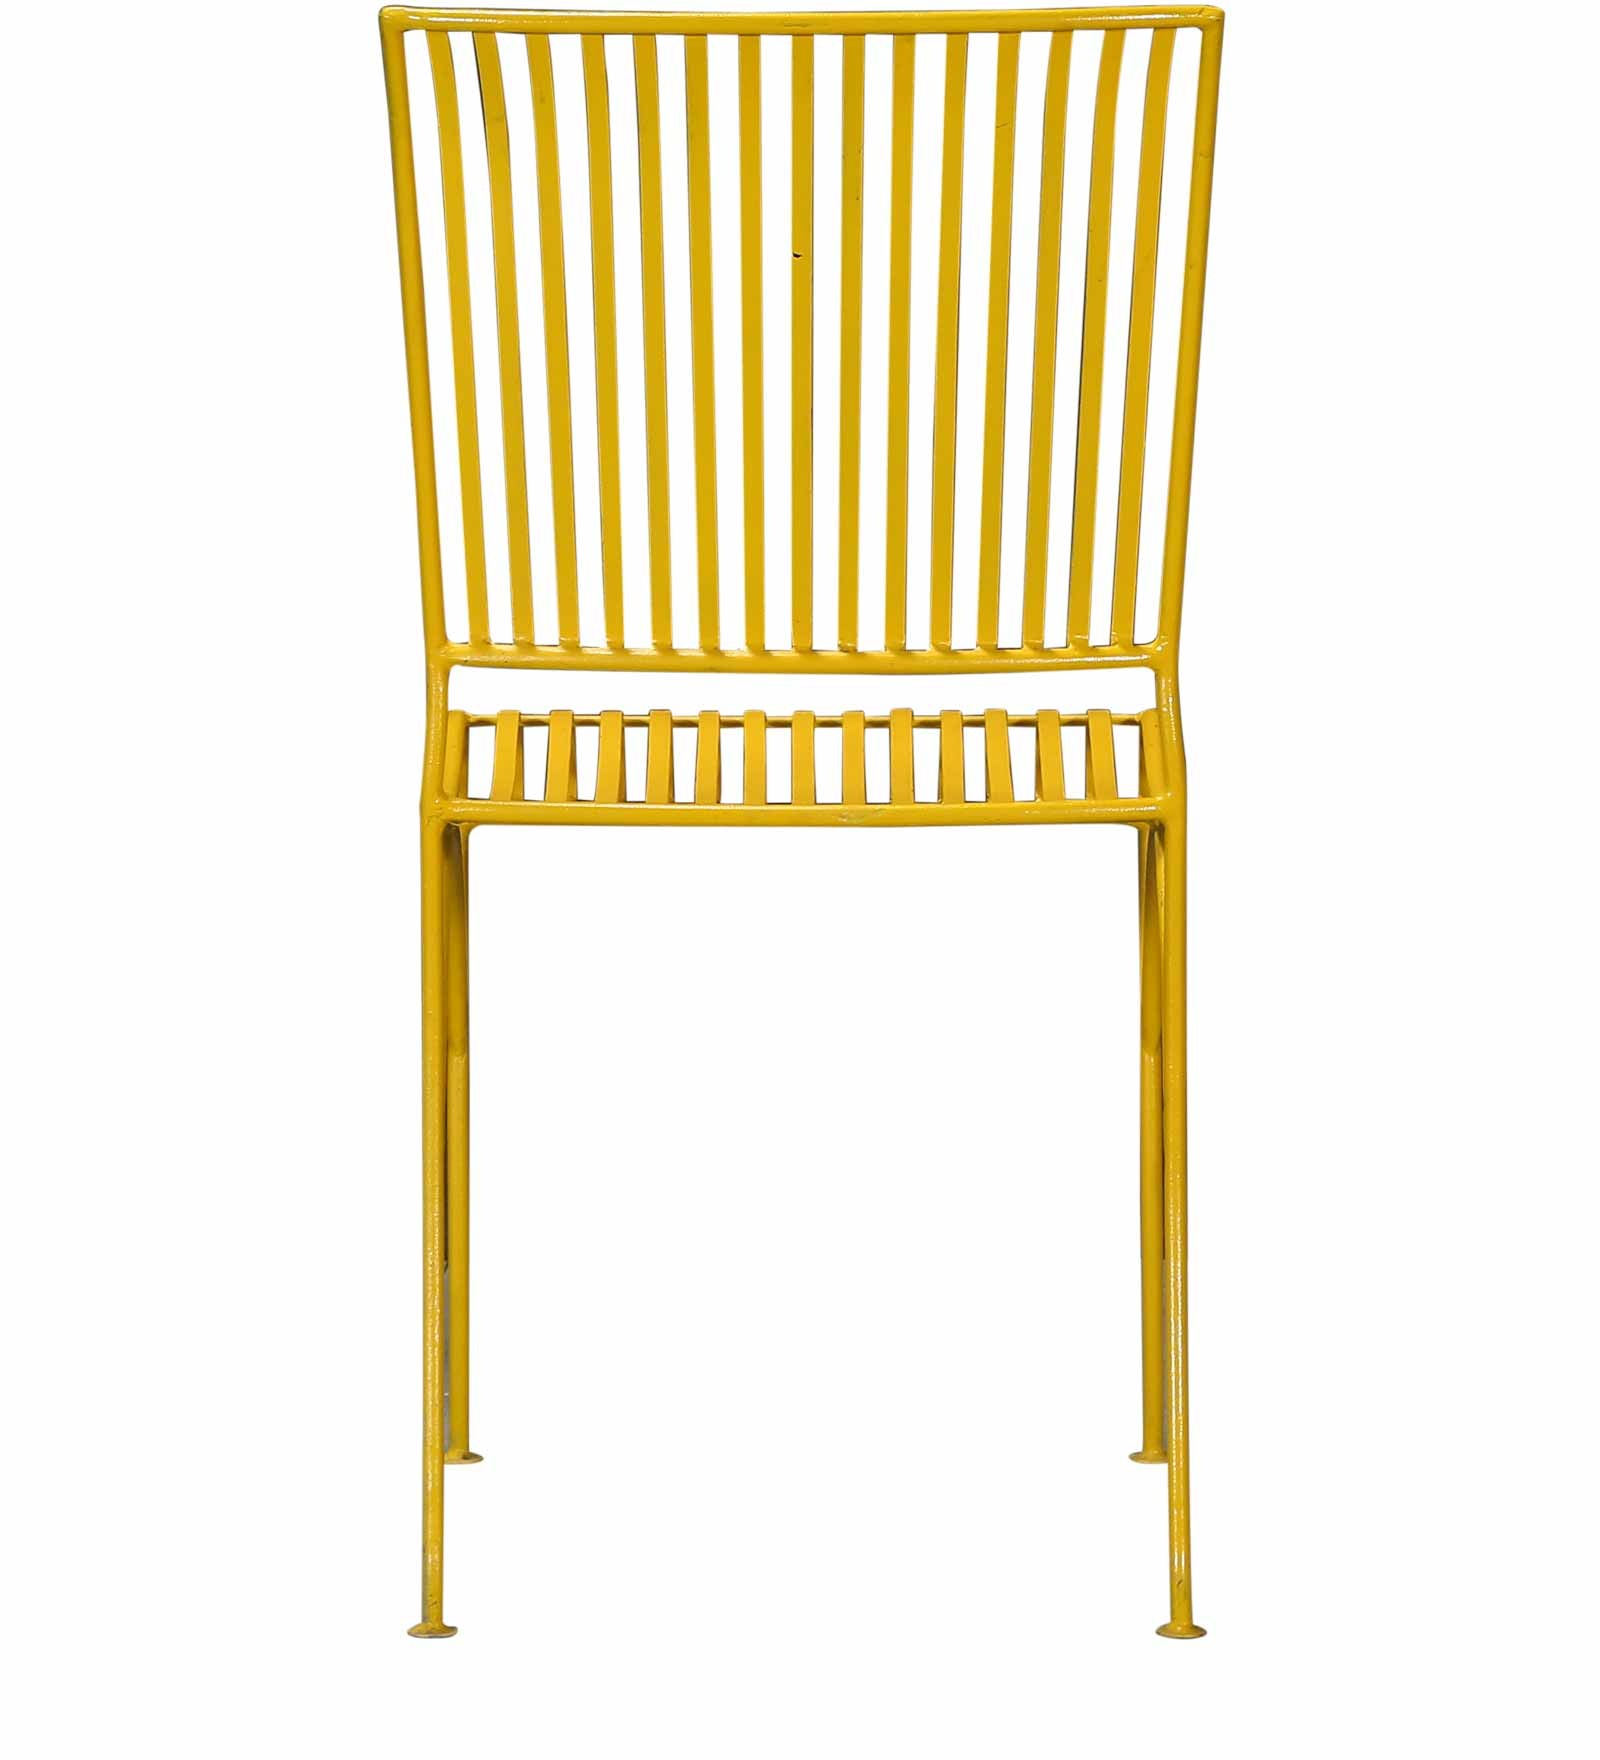Lisheen Outdoor Iron Chair in Yellow Color by Bohemiana: (325, 12, 1283, 1680)
